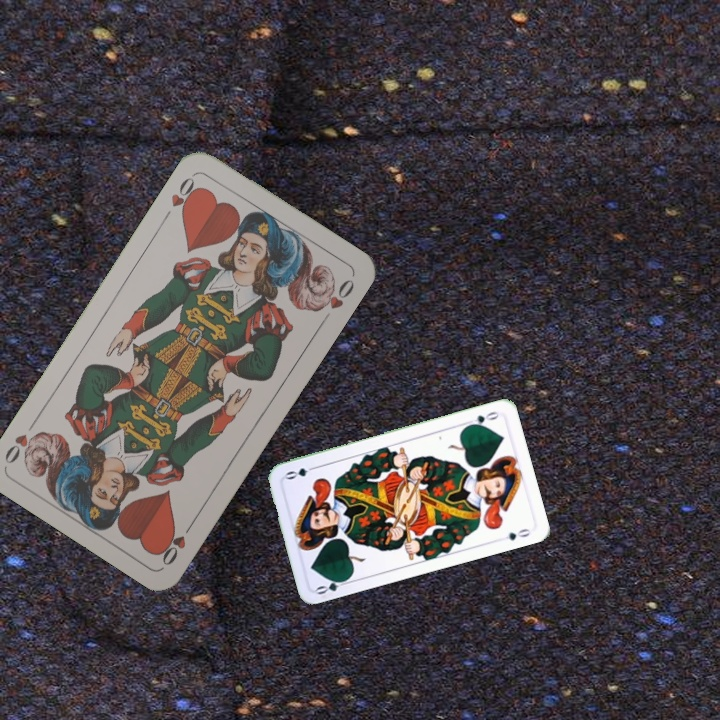GO: (312, 574, 353, 597), (462, 407, 501, 429)
HO: (155, 516, 198, 569), (159, 173, 203, 223)
